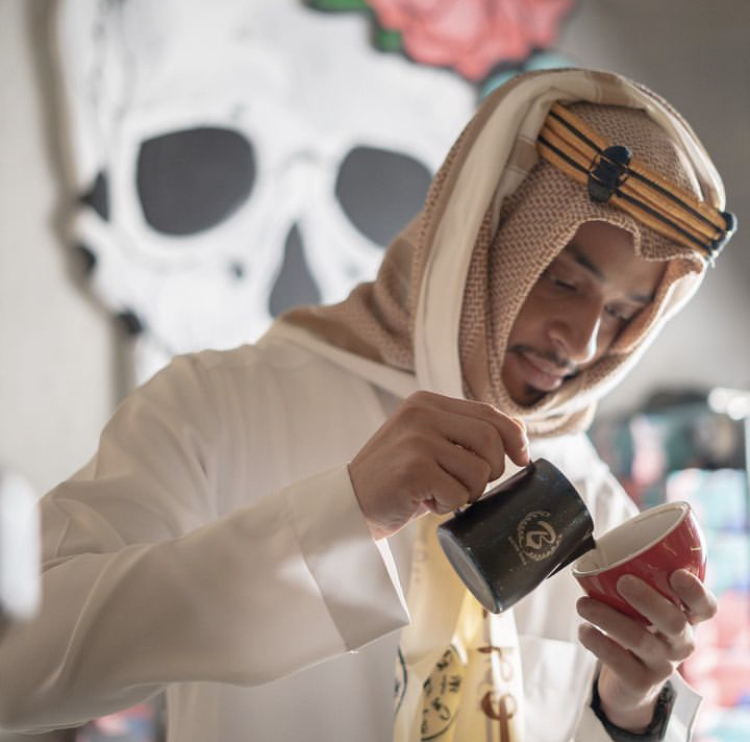Saudi_Founding_Day: (1, 63, 742, 737)
